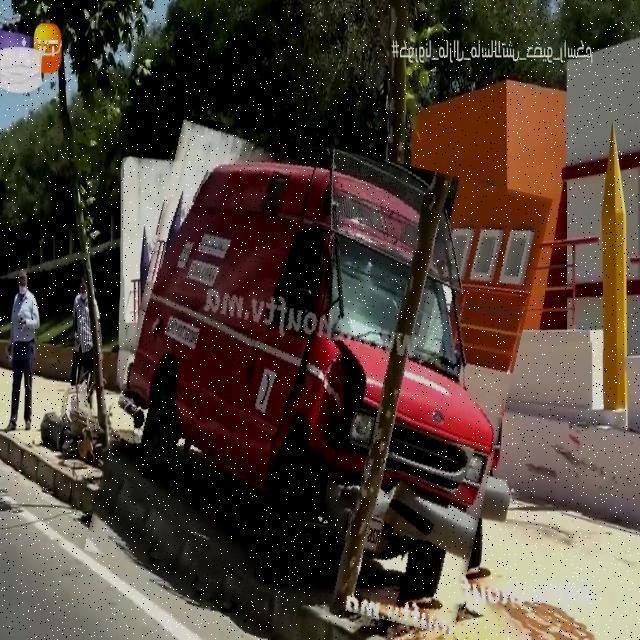ambulance: (106, 133, 530, 617)
